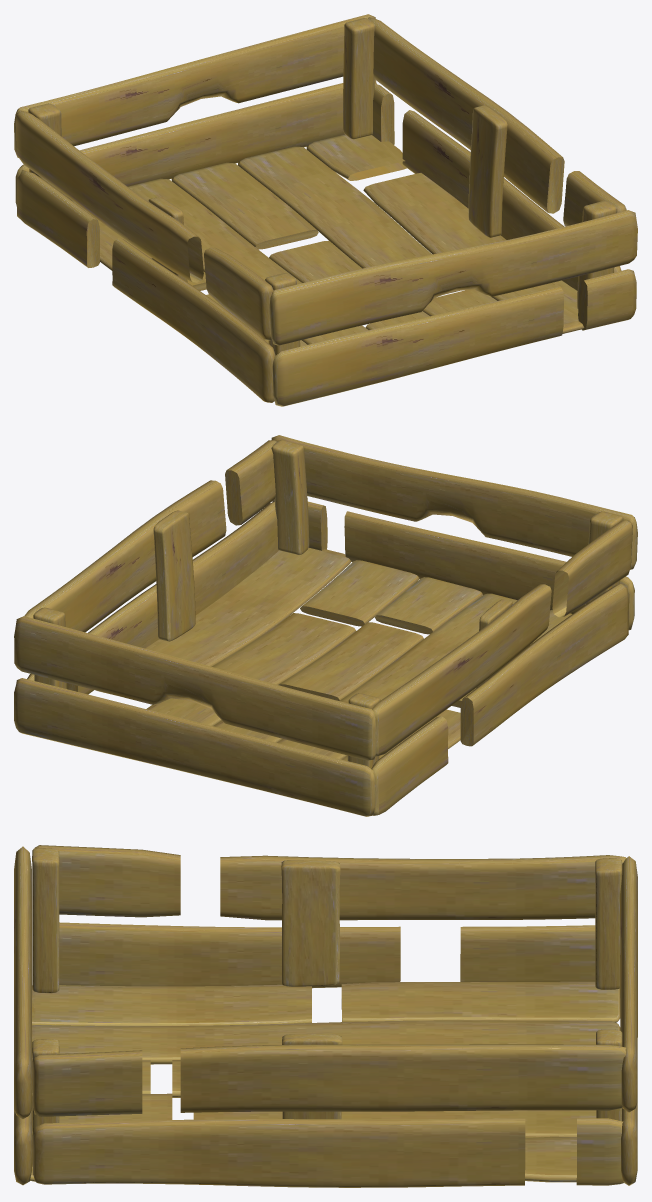
The model's file is CrateDented.fbx.
The picture shows the model from 3 angles, top to bottom: view 1: azimuth 30°, elevation 25°; view 2: azimuth 150°, elevation 25°; view 3: azimuth 270°, elevation 25°; orthographic projection. The views are drawn at different scales.
Parts seen in each view (by area): view 1: BrokenMore; view 2: BrokenMore; view 3: BrokenMore.
Boxes of the visible parts, x1,y1,x2,y2 form: BrokenMore: [14, 14, 637, 406]; BrokenMore: [14, 435, 637, 816]; BrokenMore: [14, 845, 637, 1187].
Bounding box in the file's own units: 2.98 × 0.9428 × 3.7.
1 material, 1 textured.
